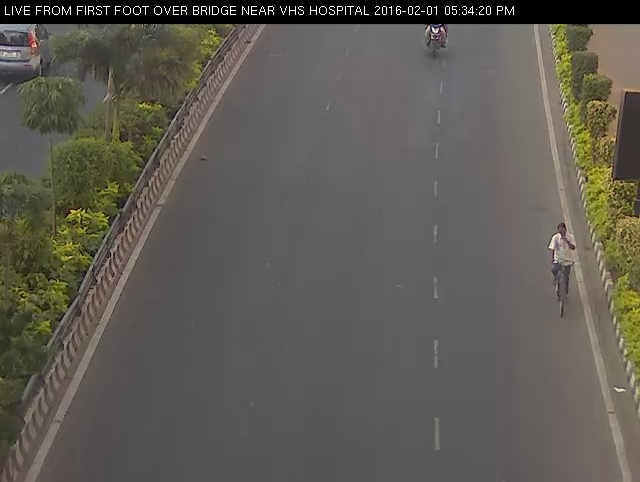Person: (418, 16, 452, 63)
